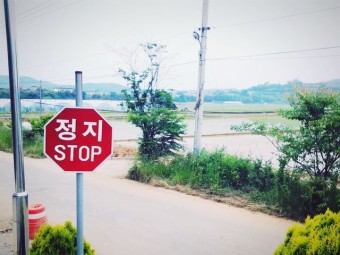SS: (42, 112, 111, 174)
